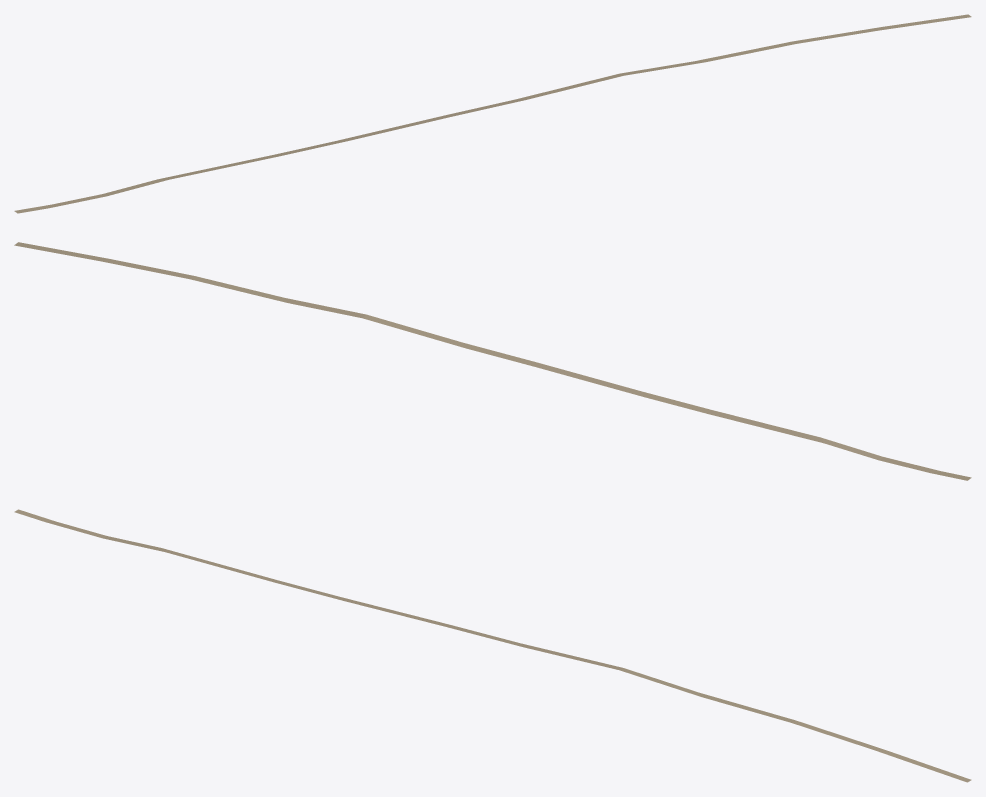
File: farm_9_10_track.glb
The picture shows the model from 3 angles, top to bottom: view 1: azimuth 30°, elevation 25°; view 2: azimuth 150°, elevation 25°; view 3: azimuth 330°, elevation 25°; orthographic projection. The views are drawn at different scales.
Visible parts, largest first — view 1: geometry_0; view 2: geometry_0; view 3: geometry_0.
Part boxes in pixels (x1=…): geometry_0: x1=14, y1=14, x2=971, y2=213; geometry_0: x1=14, y1=242, x2=971, y2=480; geometry_0: x1=14, y1=509, x2=971, y2=782.
Bounding box in the file's own units: 443 × 8.79 × 19.68.
